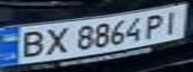4: (124, 15, 148, 43)
6: (109, 18, 130, 46)
8: (72, 21, 96, 51), (90, 20, 115, 48)
B: (12, 28, 51, 60)
I: (157, 7, 187, 36)
P: (139, 11, 169, 39)
X: (39, 25, 72, 56)
